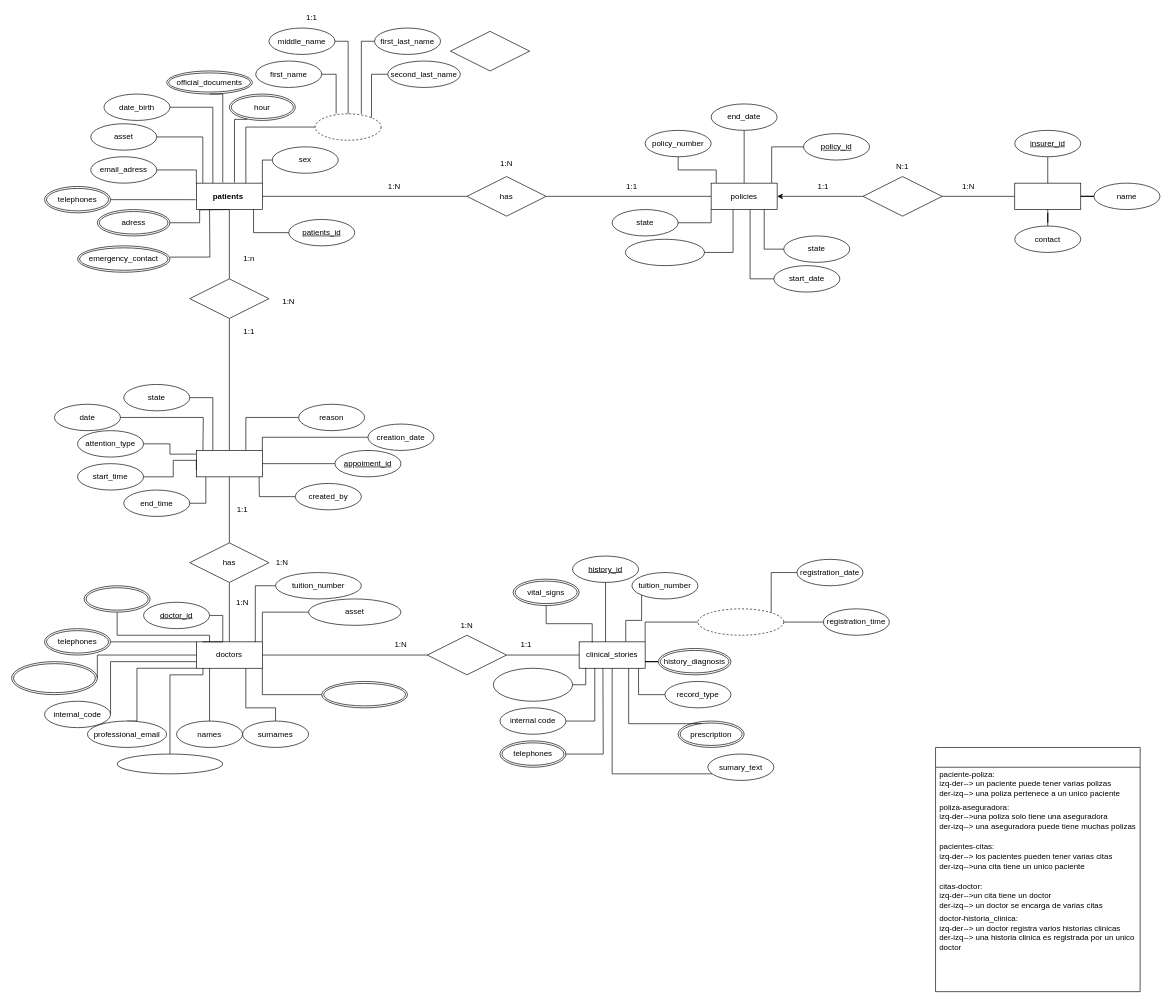
Image size: 1172x1003. Some labels were removed from this diagram. The shapes that lost their labels are listed below. From the top down, each one's box as (x1, y1, x2, y2) in pixels, then its label:
(450, 31, 530, 71): tienen
(314, 113, 381, 140): full_name
(862, 176, 942, 216): consultation
(1014, 182, 1081, 210): insurers
(625, 239, 705, 266): coverage_summary
(189, 278, 269, 318): have
(196, 450, 262, 477): quotes
(83, 585, 150, 612): speciality
(697, 608, 784, 635): date_time_registration
(427, 635, 507, 675): register
(11, 661, 97, 695): practices_adress
(321, 681, 408, 708): medical_shecule
(493, 668, 573, 701): structured_summary
(116, 753, 223, 774): hospital_admission_date
(935, 747, 1140, 992): Relaciones y cardinalidad
